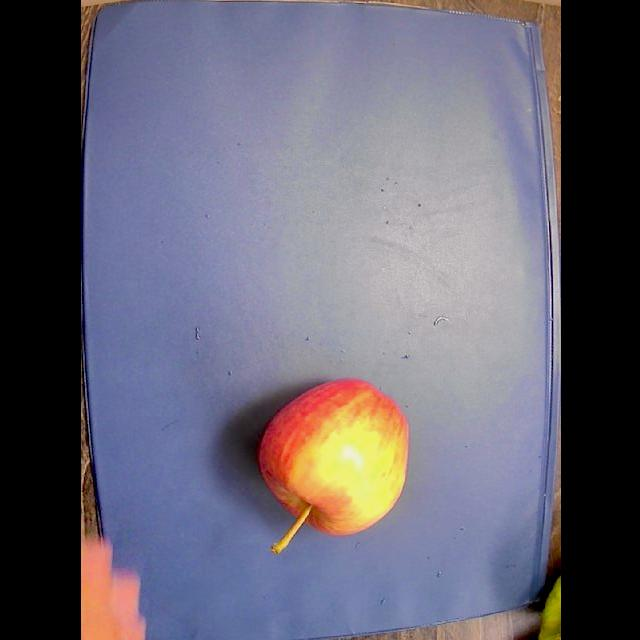manzana: (259, 379, 407, 553)
